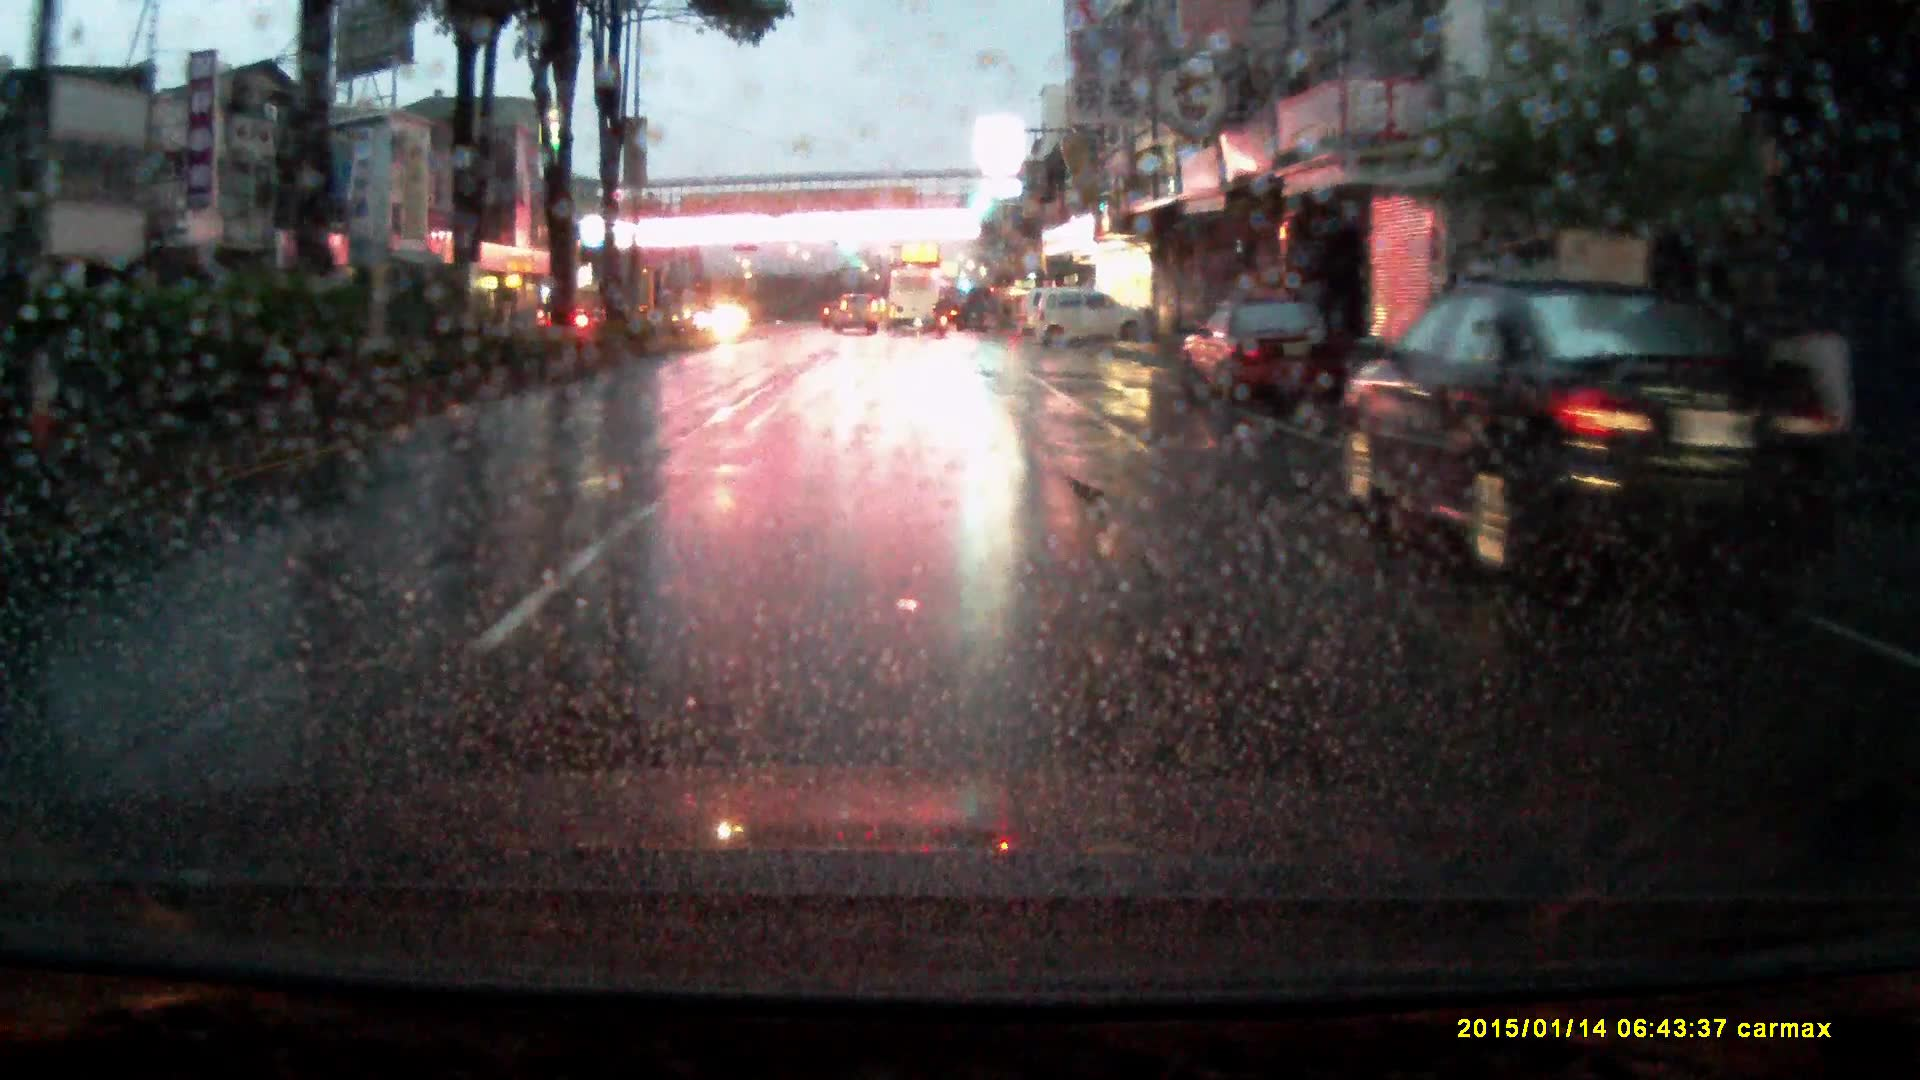vehicle: (1329, 282, 1791, 603), (1182, 305, 1364, 423), (1033, 291, 1149, 353), (886, 273, 940, 331), (833, 295, 880, 338)
